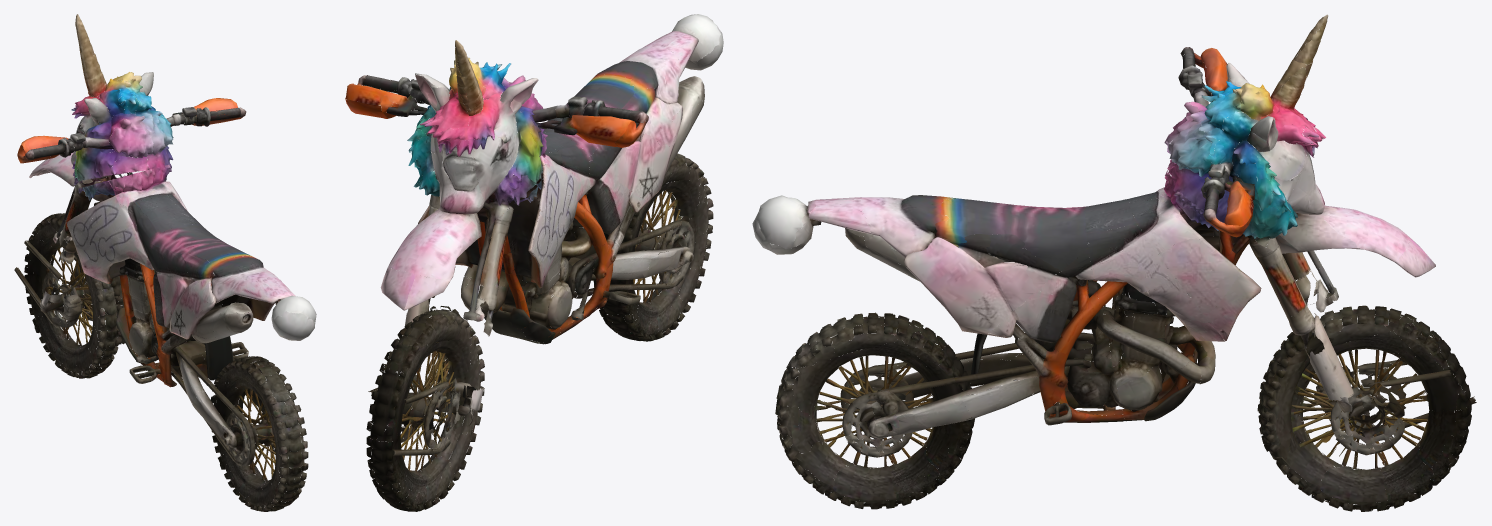
Rendered from bike_analk.glb.
The picture shows the model from 3 angles, left to right: view 1: azimuth 30°, elevation 25°; view 2: azimuth 150°, elevation 25°; view 3: azimuth 270°, elevation 25°; orthographic projection. The views are drawn at different scales.
Visible parts, largest first — view 1: bike_body, wheel_r, wheel_f; view 2: bike_body, wheel_f, wheel_r; view 3: bike_body, wheel_r, wheel_f.
Part boxes in pixels (left/top/right/bottom): bike_body: left=17, top=14, right=316, bottom=466; wheel_r: left=204, top=356, right=308, bottom=511; wheel_f: left=14, top=213, right=120, bottom=378; bike_body: left=345, top=14, right=723, bottom=447; wheel_f: left=366, top=309, right=484, bottom=511; wheel_r: left=593, top=153, right=713, bottom=341; bike_body: left=752, top=14, right=1435, bottom=461; wheel_r: left=775, top=312, right=974, bottom=509; wheel_f: left=1259, top=305, right=1476, bottom=511.
Bounding box in the file's own units: 1.19 × 1.85 × 2.49.
Materials: 1 (1 with a texture image).
